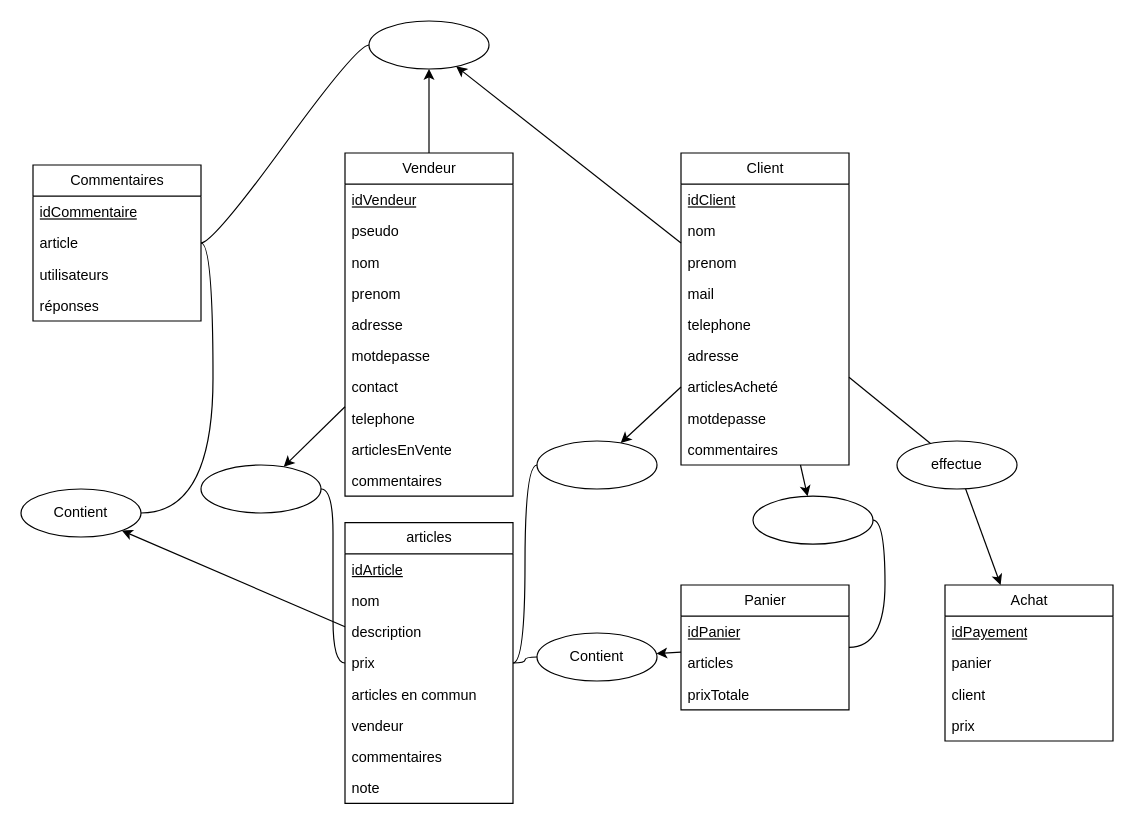
The diagram is 1134 pixels wide and 828 high, and some of its shapes have lost their labels. Here are the shapes that lost their labels. From the top down, the centre of each, then its label:
[428,44]: Poste
[596,464]: Ajoute au panier
[260,488]: Mets en ventes
[812,519]: Possède
